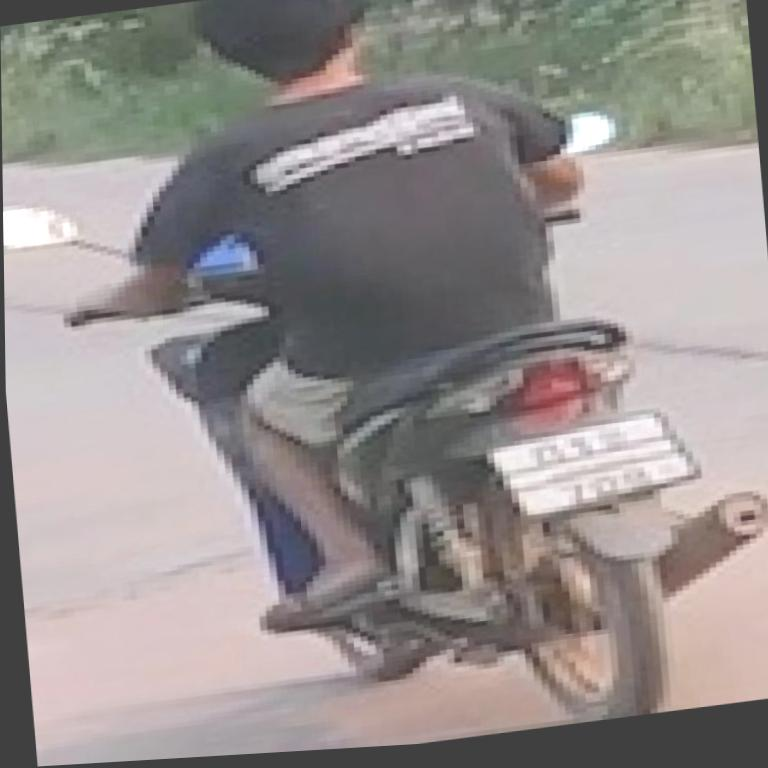license plate: (477, 398, 706, 538)
